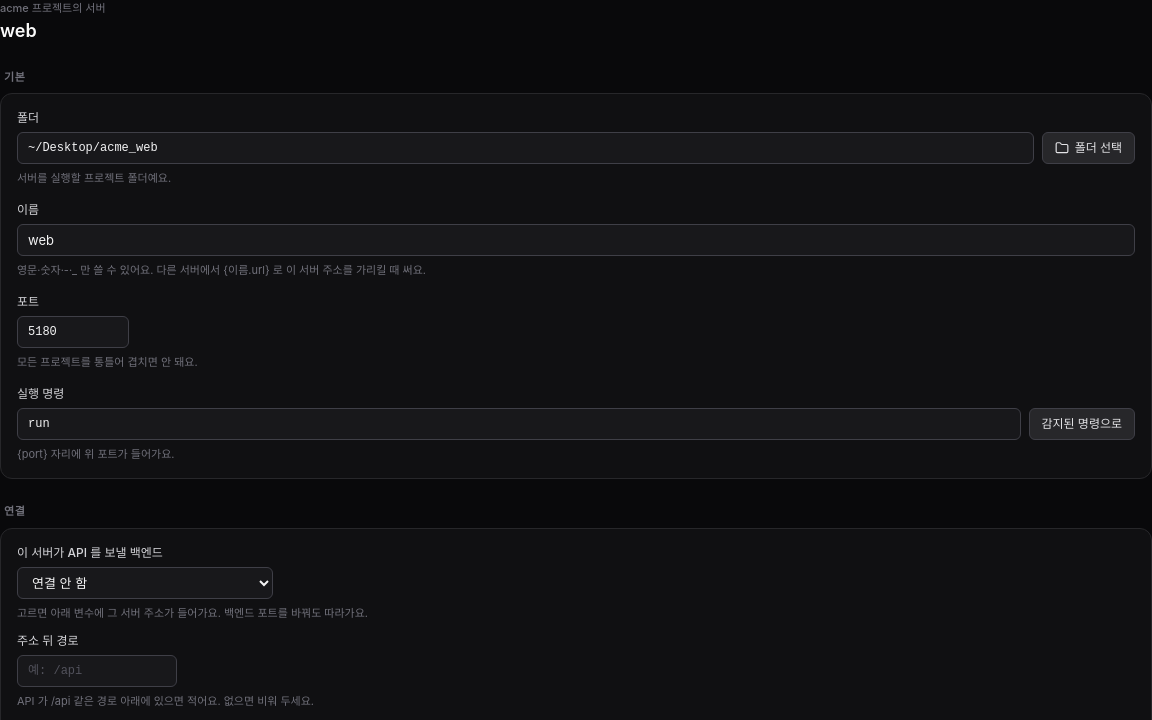
Test: ServiceEditor — 연결과 미리보기 › 백엔드를 고르기 전에 적은 경로는 연결할 때 함께 들어간다
Check: the dropdown labelled "이 서버가 API 를 보낼 백엔드" is enabled, box x1=17 y1=566 x2=273 y2=598
Type "/api" into the field labelled "주소 뒤 경로".
click(97, 670); type("/api")  # box x1=17 y1=654 x2=177 y2=686
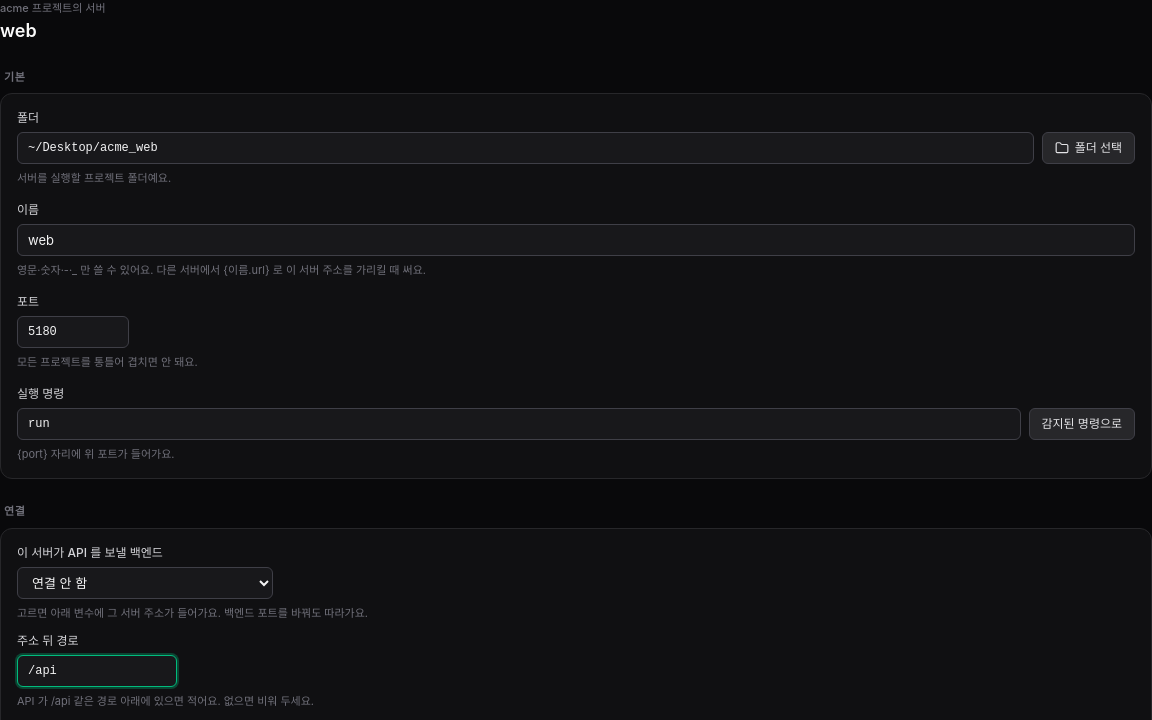
Press Tab
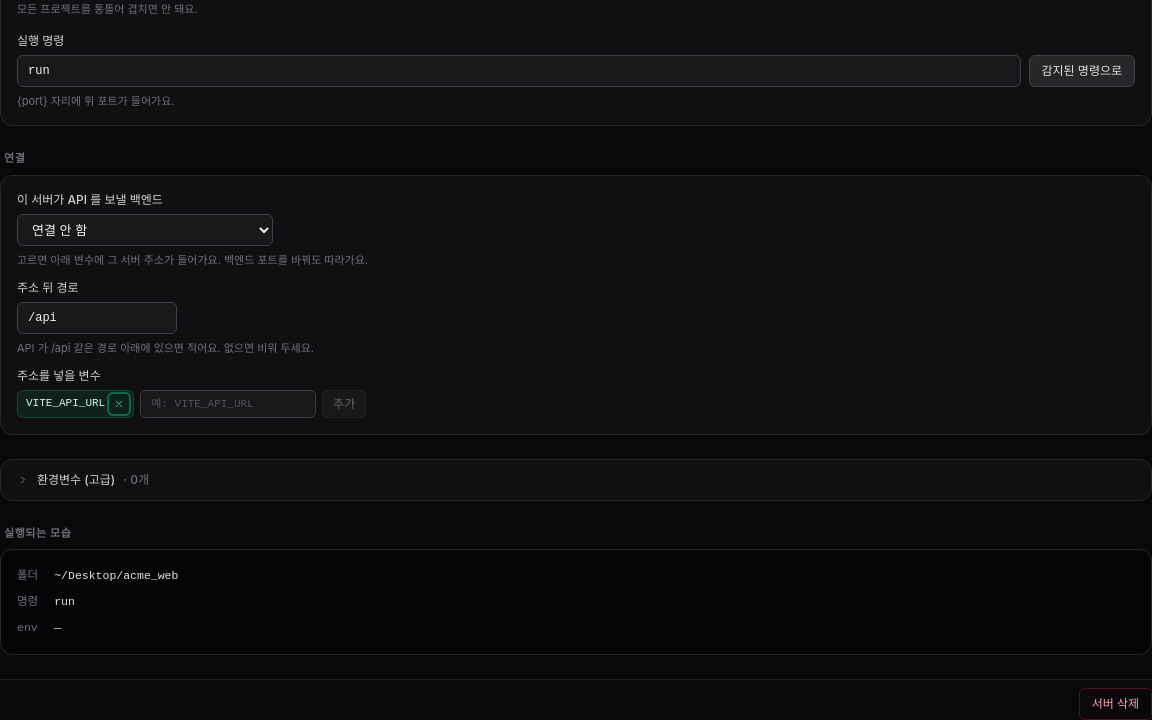
Select "frontend :3100" in the dropdown labelled "이 서버가 API 를 보낼 백엔드" at (145, 230), box x1=17 y1=214 x2=273 y2=246
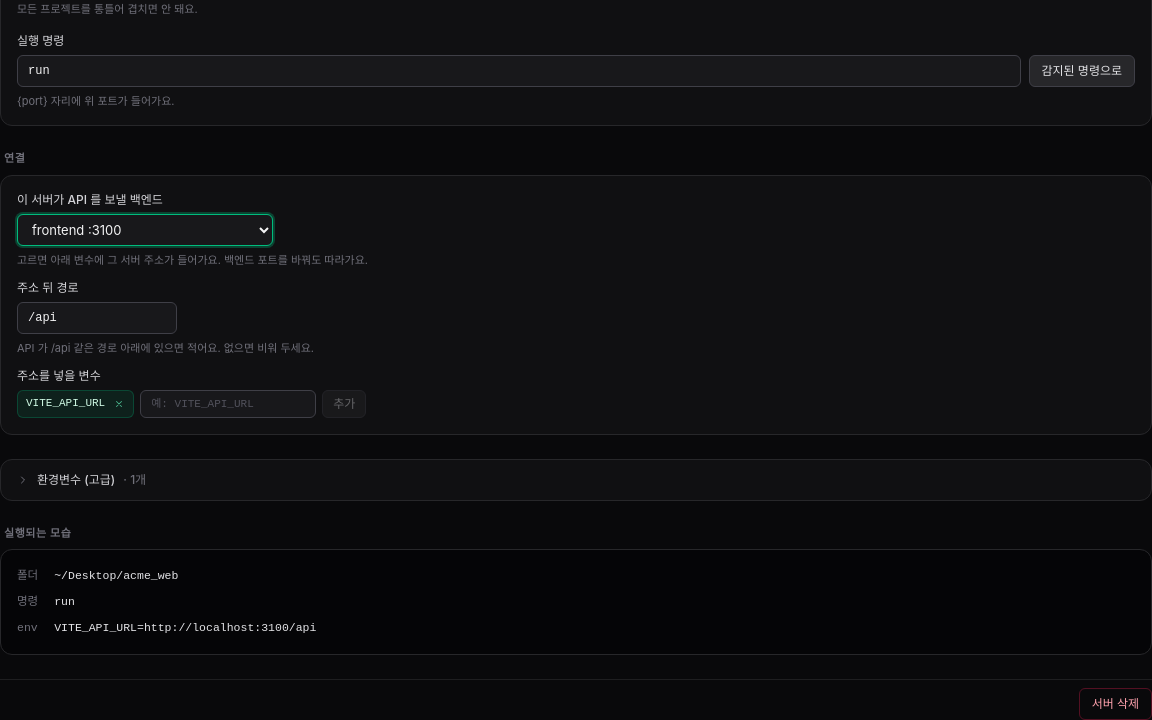
Check: the text "VITE_API_URL=http://localhost:3100/api" is shown, box x1=54 y1=621 x2=316 y2=634
